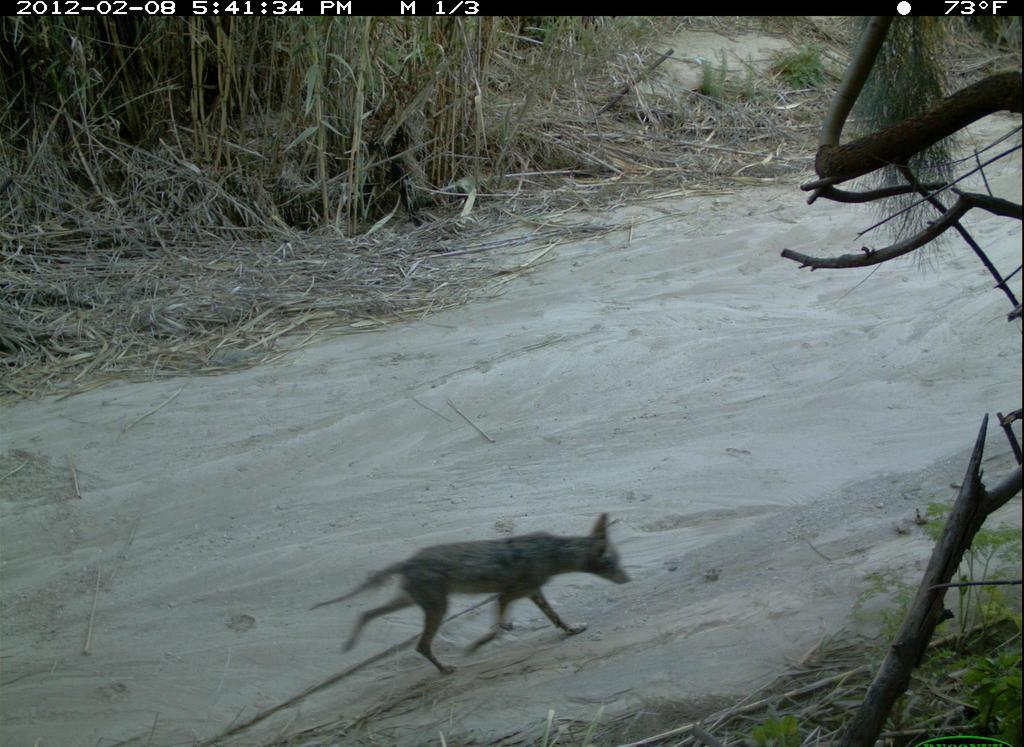coyote: (306, 506, 641, 680)
